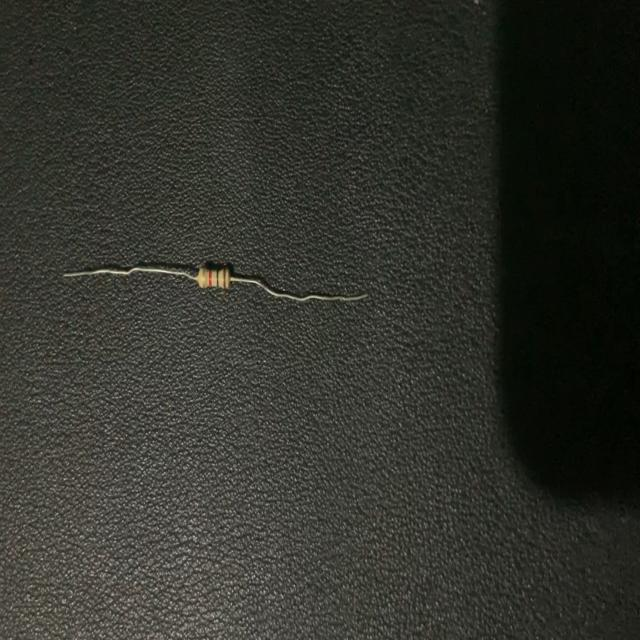resistor: (59, 254, 378, 318)
